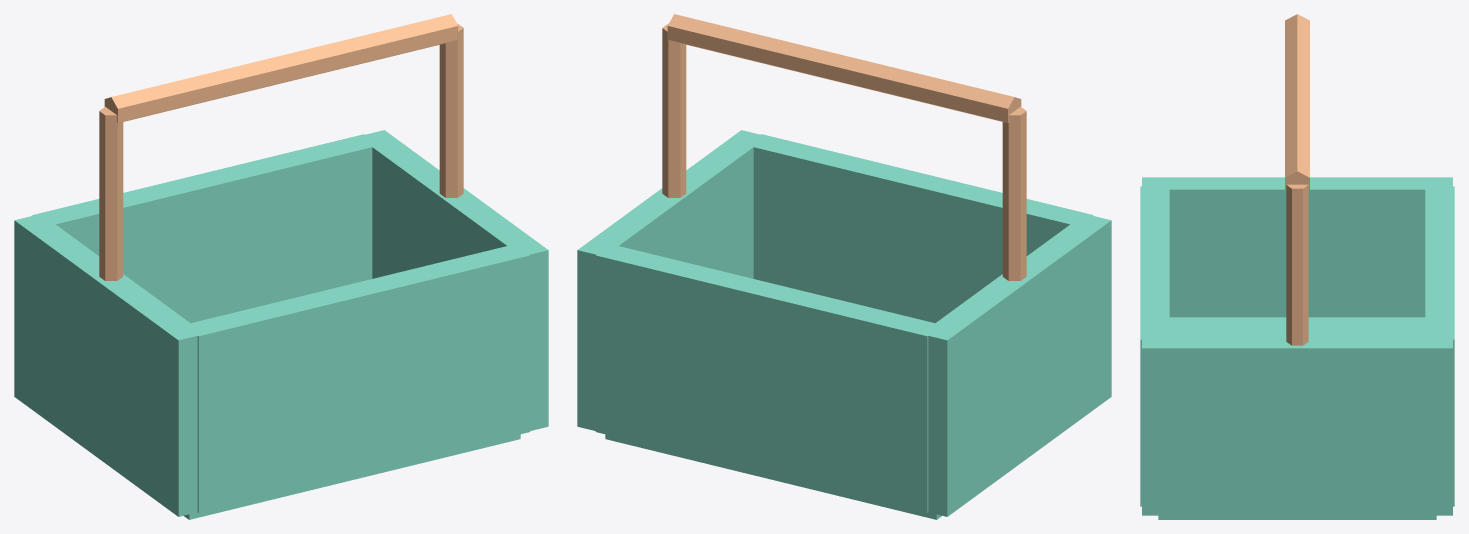
The picture shows the model from 3 angles, left to right: view 1: azimuth 30°, elevation 25°; view 2: azimuth 150°, elevation 25°; view 3: azimuth 270°, elevation 25°; orthographic projection. The views are drawn at different scales.
Visible parts, largest first — view 1: Bin end, Bin side, Bin end.001, Bin side.001, Handle, Handle side, Handle side.001, Bin bottom; view 2: Bin end.001, Bin side, Bin end, Bin side.001, Handle, Handle side, Handle side.001, Bin bottom; view 3: Bin side.001, Bin side, Bin bottom, Bin end.001, Bin end, Handle, Handle side.001.
Part boxes in pixels (bbox=[...]): Bin end: bbox=[186, 246, 530, 512]; Bin side: bbox=[14, 214, 203, 516]; Bin end.001: bbox=[32, 134, 379, 323]; Bin side.001: bbox=[358, 130, 548, 430]; Handle: bbox=[104, 14, 458, 122]; Handle side: bbox=[99, 106, 123, 280]; Handle side.001: bbox=[439, 23, 463, 197]; Bin bottom: bbox=[184, 434, 520, 519]; Bin end.001: bbox=[595, 246, 941, 512]; Bin side: bbox=[922, 214, 1111, 516]; Bin end: bbox=[746, 134, 1093, 323]; Bin side.001: bbox=[577, 130, 765, 430]; Handle: bbox=[667, 14, 1021, 122]; Handle side: bbox=[1002, 106, 1026, 280]; Handle side.001: bbox=[662, 23, 686, 197]; Bin bottom: bbox=[605, 434, 941, 519]; Bin side.001: bbox=[1142, 336, 1452, 515]; Bin side: bbox=[1142, 177, 1452, 317]; Bin bottom: bbox=[1158, 317, 1436, 519]; Bin end.001: bbox=[1425, 186, 1454, 506]; Bin end: bbox=[1140, 186, 1169, 506]; Handle: bbox=[1285, 14, 1309, 191]; Handle side.001: bbox=[1286, 184, 1308, 345].
Bounding box in the file's own units: 0.5 × 0.478 × 0.388.
Materials: 1 (1 with a texture image).
